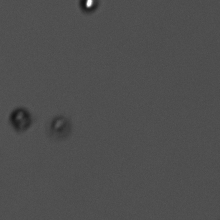Dead Cell: (8, 104, 33, 132), (49, 112, 71, 136)
Living Cell: (77, 1, 101, 13)
